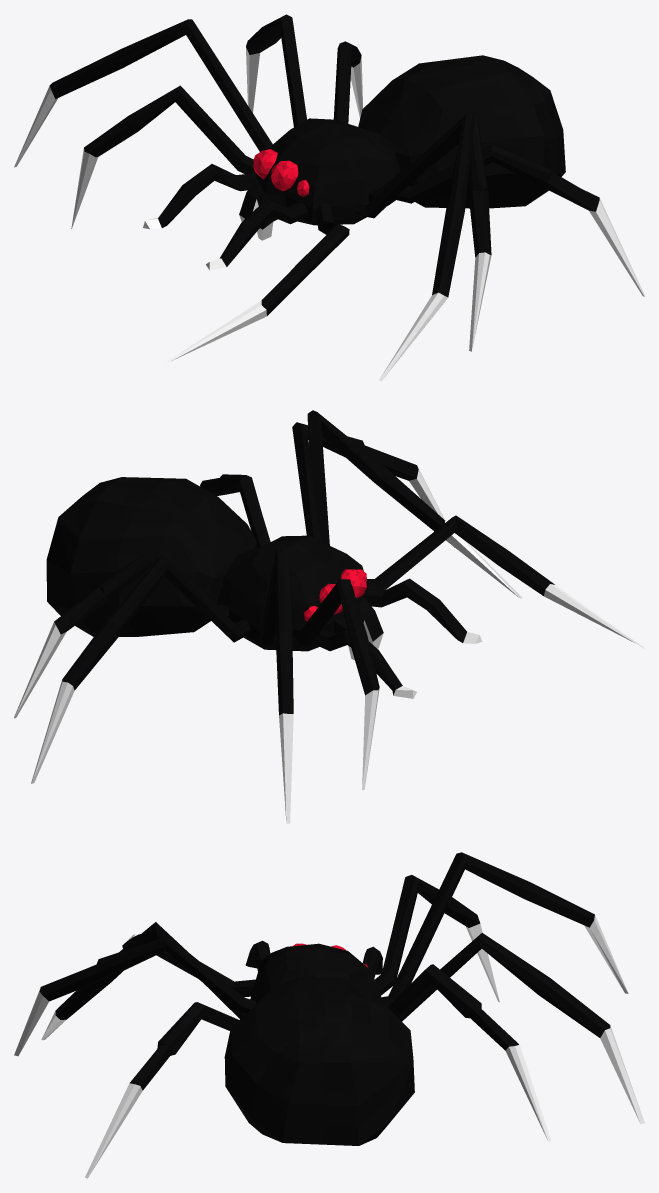
Rendered from spiderWalking10.obj.
3 renders of one model, top to bottom at view 1: azimuth 30°, elevation 25°; view 2: azimuth 150°, elevation 25°; view 3: azimuth 270°, elevation 25°, orthographic. The views are drawn at different scales.
Parts seen in each view (by area): view 1: Cube.001_Cube.002; view 2: Cube.001_Cube.002; view 3: Cube.001_Cube.002.
Boxes of the visible parts, <box> form: Cube.001_Cube.002: <box>14,14,644,381</box>; Cube.001_Cube.002: <box>14,410,644,823</box>; Cube.001_Cube.002: <box>14,852,644,1178</box>.
Bounding box in the file's own units: 29.02 × 11.8 × 33.96.
